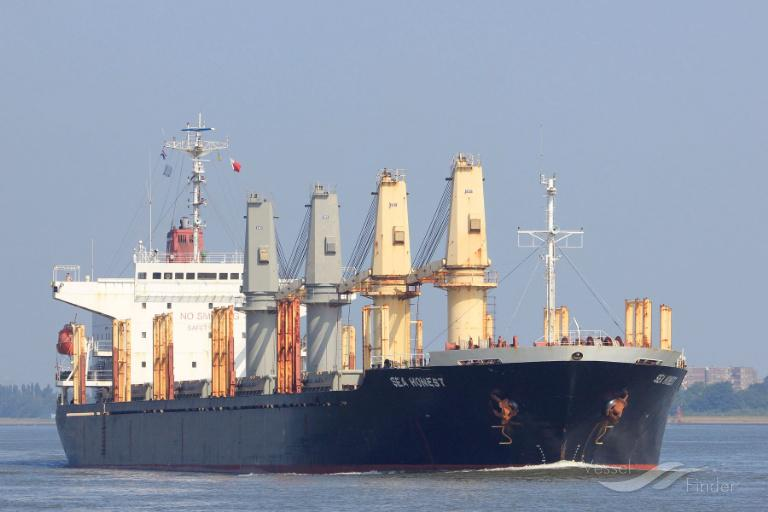OCR: (390, 366, 452, 392)
